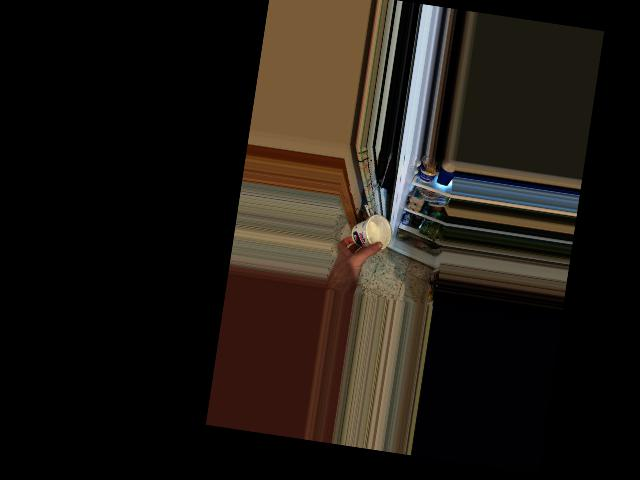cotage: (347, 206, 394, 255)
